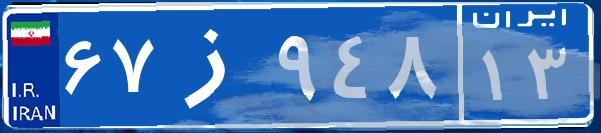1: (475, 38, 525, 113)
3: (525, 38, 570, 115)
4: (330, 28, 385, 110)
6: (57, 26, 110, 107)
7: (110, 28, 158, 105)
8: (385, 28, 445, 110)
9: (273, 28, 330, 110)
ز: (158, 15, 273, 115)
